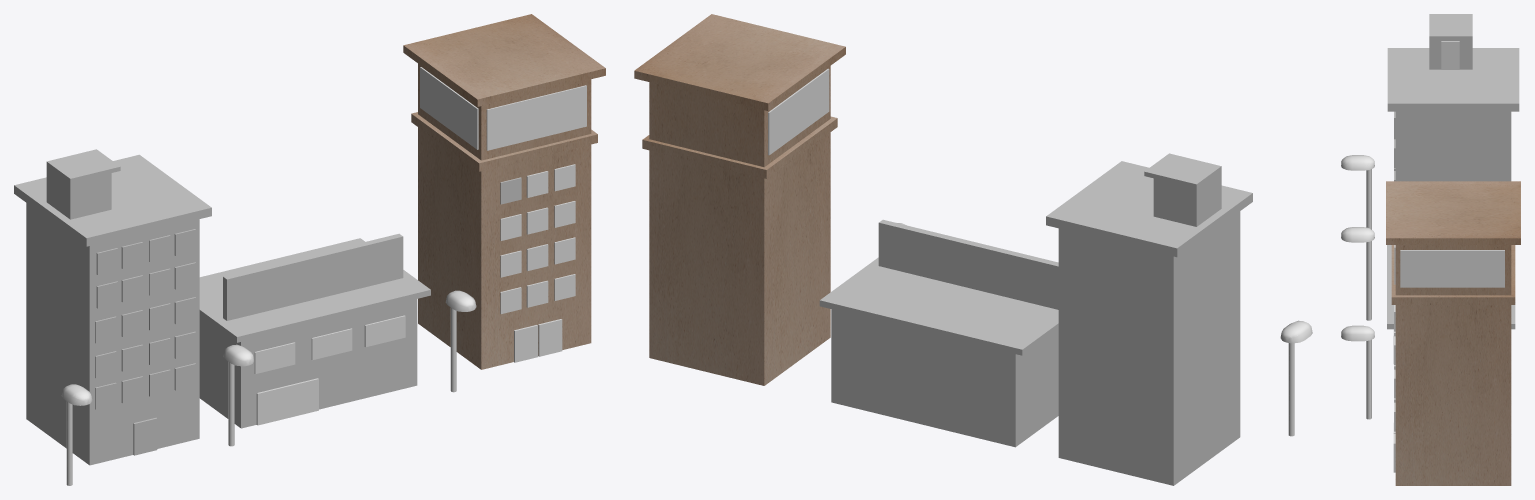
Rendered from edificios.FBX.
3 views of the same model, side by side, from view 1: azimuth 30°, elevation 25°; view 2: azimuth 150°, elevation 25°; view 3: azimuth 270°, elevation 25° (orthographic). The views are drawn at different scales.
Visible parts, largest first — view 1: Box051, Box001, Box046, Box066, Box069, Box047, Cylinder001, Cylinder002, Cylinder003, Box049, Box048, Box050 (+3 smaller); view 2: Box051, Box001, Box046, Box069, Cylinder003; view 3: Box051, Box001, Box070, Cylinder001, Box046, Cylinder002, Box045, Capsule003, Capsule002, Cylinder003.
Boxes of the visible parts, <box> form: Box051: <box>403,14,605,369</box>; Box001: <box>14,149,211,465</box>; Box046: <box>199,233,430,428</box>; Box066: <box>486,85,586,150</box>; Box069: <box>420,67,478,149</box>; Box047: <box>256,378,318,425</box>; Cylinder001: <box>445,290,476,392</box>; Cylinder002: <box>223,345,252,446</box>; Cylinder003: <box>61,384,90,485</box>; Box049: <box>311,328,352,360</box>; Box048: <box>254,342,295,373</box>; Box050: <box>364,315,405,347</box>; Box051: <box>634,14,845,385</box>; Box001: <box>1046,153,1252,485</box>; Box046: <box>819,219,1058,447</box>; Box069: <box>768,68,829,155</box>; Cylinder003: <box>1284,321,1312,436</box>; Box051: <box>1386,181,1520,485</box>; Box001: <box>1387,14,1519,181</box>; Box070: <box>1400,250,1504,287</box>; Cylinder001: <box>1341,325,1374,419</box>; Box046: <box>1387,245,1515,329</box>; Cylinder002: <box>1341,227,1371,320</box>; Box045: <box>1441,41,1459,69</box>; Capsule003: <box>1341,155,1374,170</box>; Capsule002: <box>1341,228,1374,242</box>; Cylinder003: <box>1341,155,1373,229</box>.
Bounding box in the file's own units: 318 × 151 × 97.9.
